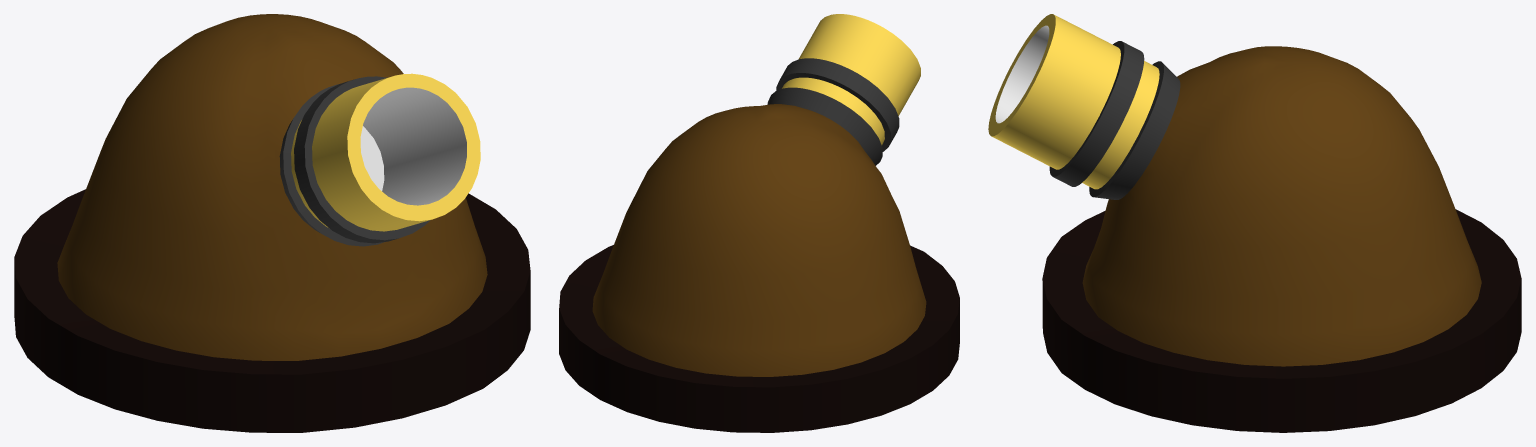
File: Cannon.fbx
3 views of the same model, side by side, from view 1: azimuth 30°, elevation 25°; view 2: azimuth 150°, elevation 25°; view 3: azimuth 270°, elevation 25° (orthographic). The views are drawn at different scales.
Parts seen in each view (by area): view 1: Cannon, Ring; view 2: Cannon, Ring; view 3: Cannon, Ring.
Boxes of the visible parts, x1,y1,x2,y2 form: Cannon: [57, 14, 487, 360]; Ring: [14, 189, 530, 432]; Cannon: [592, 14, 926, 376]; Ring: [559, 245, 959, 432]; Cannon: [988, 14, 1481, 366]; Ring: [1042, 209, 1521, 432].
Size of the model in its own units: 239 by 173 by 268.
